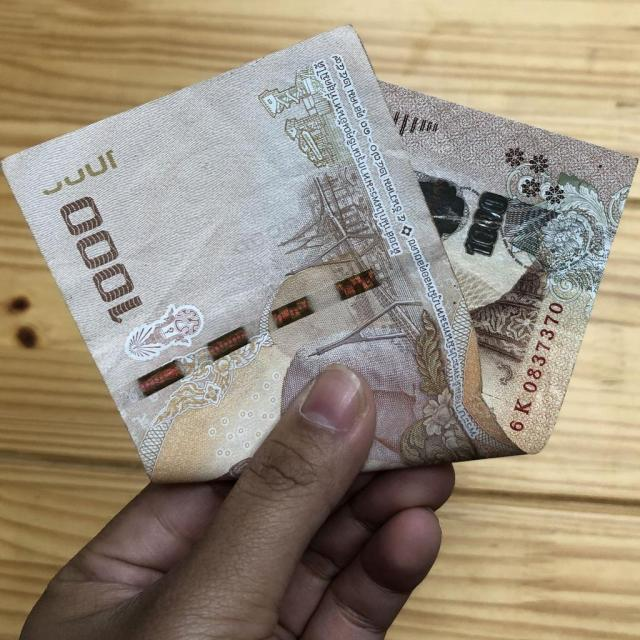THAI1000: (2, 26, 632, 487)
